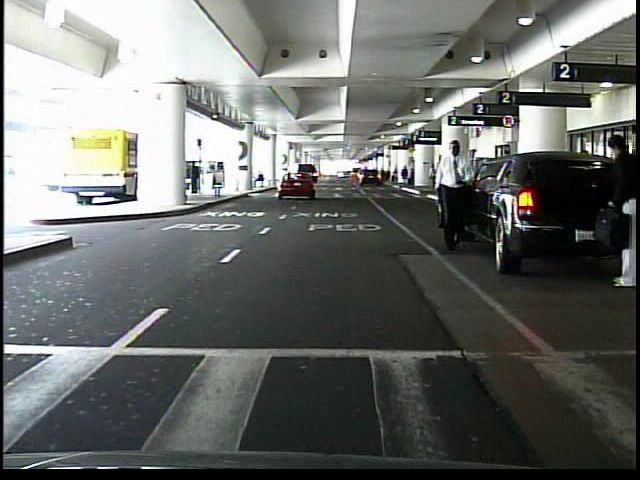person: (592, 135, 640, 288), (434, 135, 469, 249), (188, 159, 202, 196), (401, 166, 410, 187)
